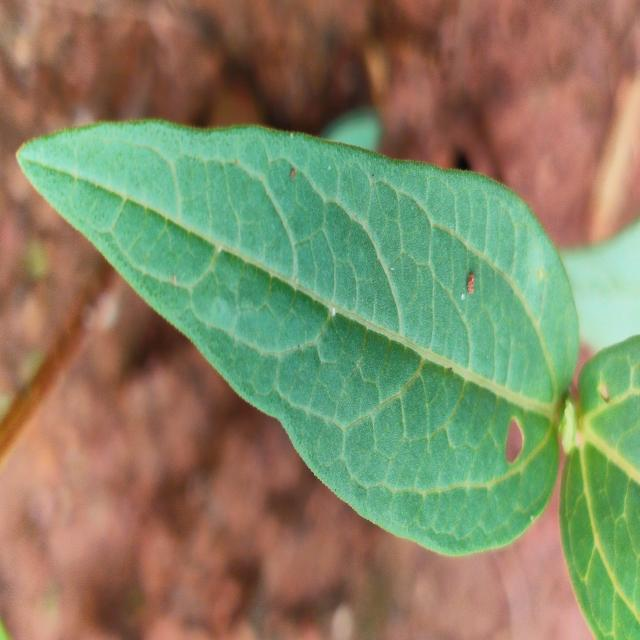Black gram_healthy: (18, 121, 577, 556)
